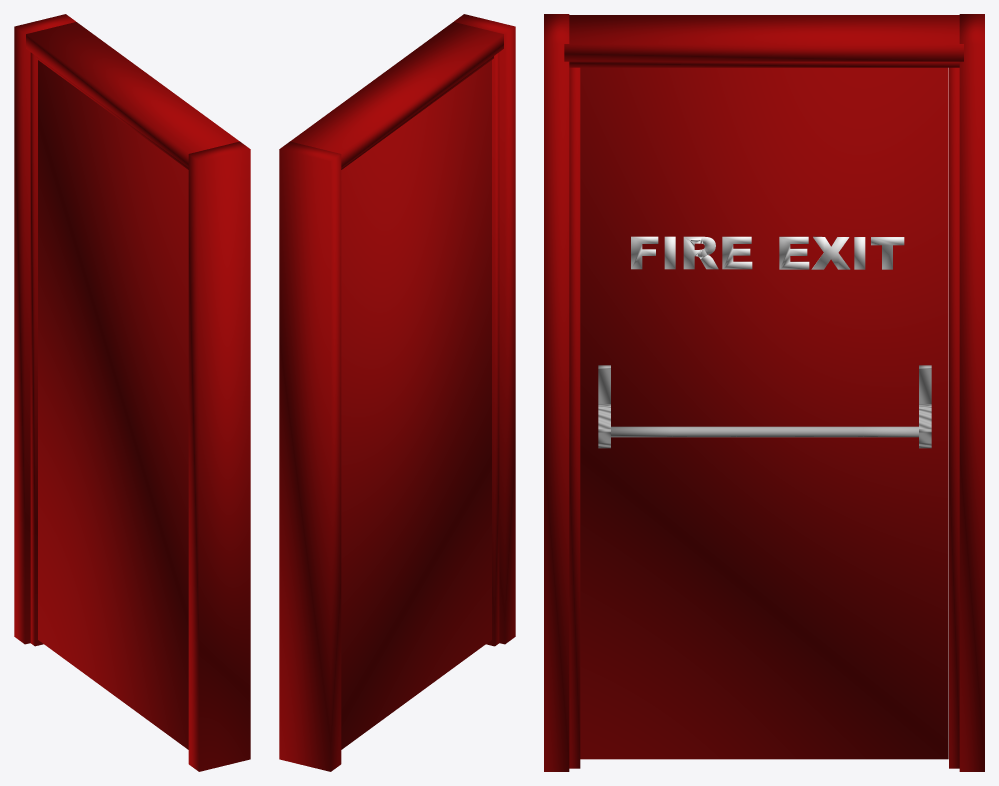
Rendered from Fire exit door.fbx.
3 renders of one model, left to right at view 1: azimuth 30°, elevation 25°; view 2: azimuth 150°, elevation 25°; view 3: azimuth 270°, elevation 25°, orthographic. The views are drawn at different scales.
Parts seen in each view (by area): view 1: Box001, Box007, Box006, Box008, Box003, Box005; view 2: Box001, Box006, Box007, Box008, Box004, Box005; view 3: Box001, Box006, Box007, Box008, Box004, Box003, TextPlus001, Cylinder001, Box005, Line001, Line002.
Boxes of the visible parts, x1,y1,x2,y2 form: Box001: (38, 60, 188, 749); Box007: (188, 141, 250, 771); Box006: (14, 14, 75, 644); Box008: (26, 22, 239, 167); Box003: (30, 52, 43, 646); Box005: (36, 56, 188, 169); Box001: (341, 60, 491, 749); Box006: (279, 141, 341, 771); Box007: (454, 14, 515, 644); Box008: (290, 22, 503, 167); Box004: (486, 52, 499, 646); Box005: (341, 56, 493, 169); Box001: (580, 67, 948, 759); Box006: (959, 14, 984, 771); Box007: (544, 14, 569, 771); Box008: (564, 15, 963, 61); Box004: (569, 67, 580, 768); Box003: (949, 67, 959, 768); TextPlus001: (631, 236, 904, 269); Cylinder001: (611, 426, 918, 437); Box005: (569, 61, 959, 67); Line001: (598, 365, 610, 448); Line002: (919, 365, 931, 448).
Bounding box in the file's own units: 44.56 × 366 × 201.
